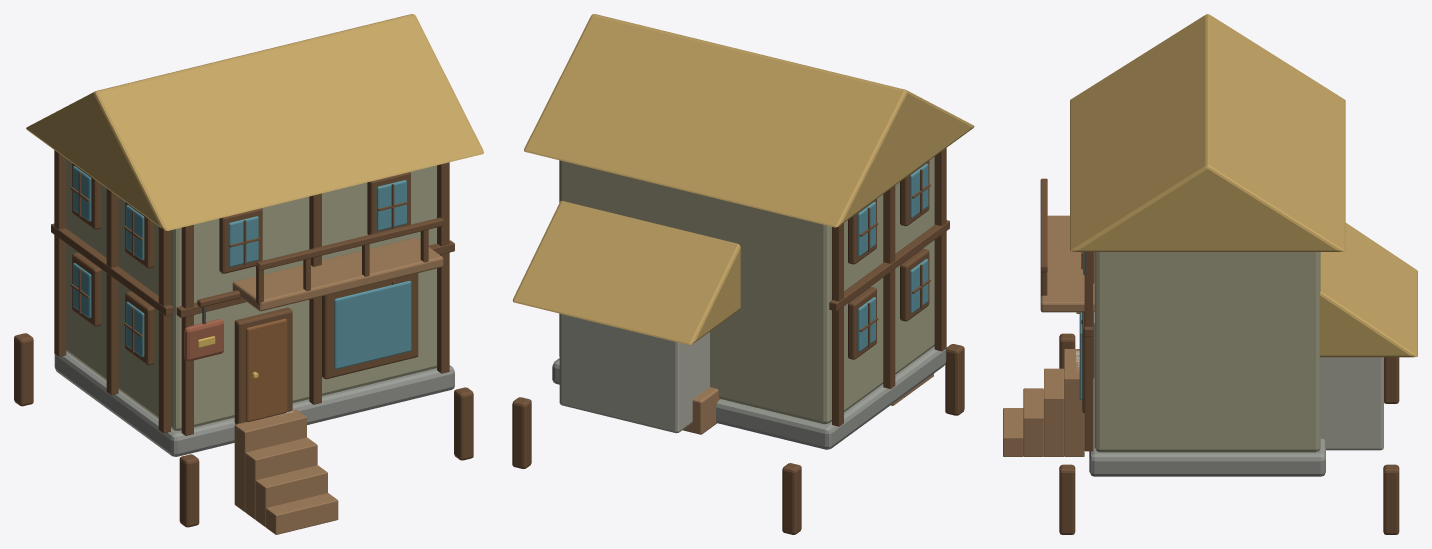
The model's file is wetland-merchant-3.glb.
3 renders of one model, left to right at view 1: azimuth 30°, elevation 25°; view 2: azimuth 150°, elevation 25°; view 3: azimuth 270°, elevation 25°, orthographic. The views are drawn at different scales.
Parts seen in each view (by area): view 1: Golden thatch, Dark beams, Weathered planks, Aged oak, Blue glass, Foundation stone, Door oak, Painted sign; view 2: Golden thatch, Weathered planks, Dark beams, Fieldstone, Foundation stone, Blue glass, Aged oak; view 3: Golden thatch, Weathered planks, Aged oak, Dark beams, Foundation stone, Fieldstone.
Boxes of the visible parts, box(x1,y1,x2,y2) form: Golden thatch: box(26, 14, 483, 230); Dark beams: box(14, 150, 473, 527); Weathered planks: box(66, 159, 436, 430); Aged oak: box(232, 237, 443, 534); Blue glass: box(73, 166, 411, 369); Foundation stone: box(54, 352, 454, 456); Door oak: box(246, 318, 287, 421); Painted sign: box(184, 319, 223, 361); Golden thatch: box(512, 14, 974, 345); Weathered planks: box(559, 157, 934, 424); Dark beams: box(512, 148, 964, 534); Fieldstone: box(559, 314, 709, 433); Foundation stone: box(552, 346, 946, 449); Blue glass: box(858, 163, 928, 351); Aged oak: box(682, 374, 933, 434); Golden thatch: box(1070, 14, 1417, 357); Weathered planks: box(1094, 252, 1320, 452); Aged oak: box(1003, 215, 1094, 456); Dark beams: box(1040, 178, 1399, 534); Foundation stone: box(1089, 323, 1325, 476); Fieldstone: box(1320, 357, 1383, 450).
Size of the model in its own units: 4.1 by 4.7 by 4.68.
